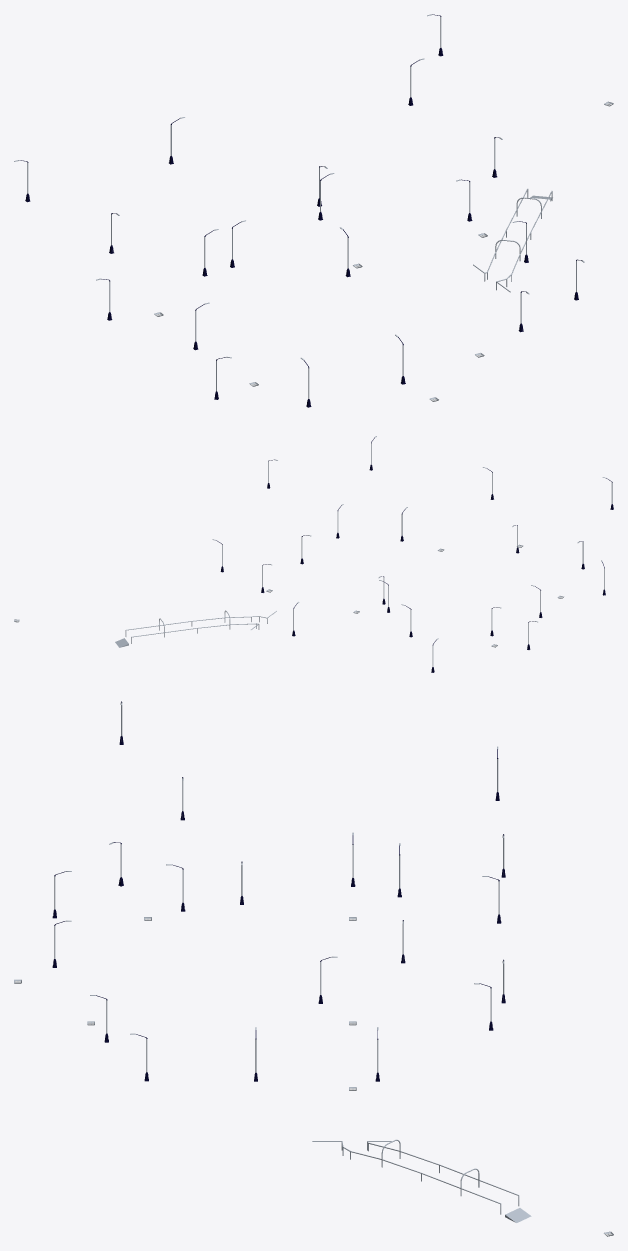
The model's file is CEON_STREET_LIGHTS.glb.
The picture shows the model from 3 angles, top to bottom: view 1: azimuth 30°, elevation 25°; view 2: azimuth 150°, elevation 25°; view 3: azimuth 270°, elevation 25°; orthographic projection. The views are drawn at different scales.
Visible parts, largest first — view 1: LIGHT_POLES; view 2: LIGHT_POLES; view 3: LIGHT_POLES.
Boxes of the visible parts, left/top/right/bottom form: LIGHT_POLES: left=14, top=14, right=613, bottom=407; LIGHT_POLES: left=14, top=436, right=613, bottom=672; LIGHT_POLES: left=14, top=701, right=613, bottom=1236.
Bounding box in the file's own units: 102 × 39.99 × 76.18.
